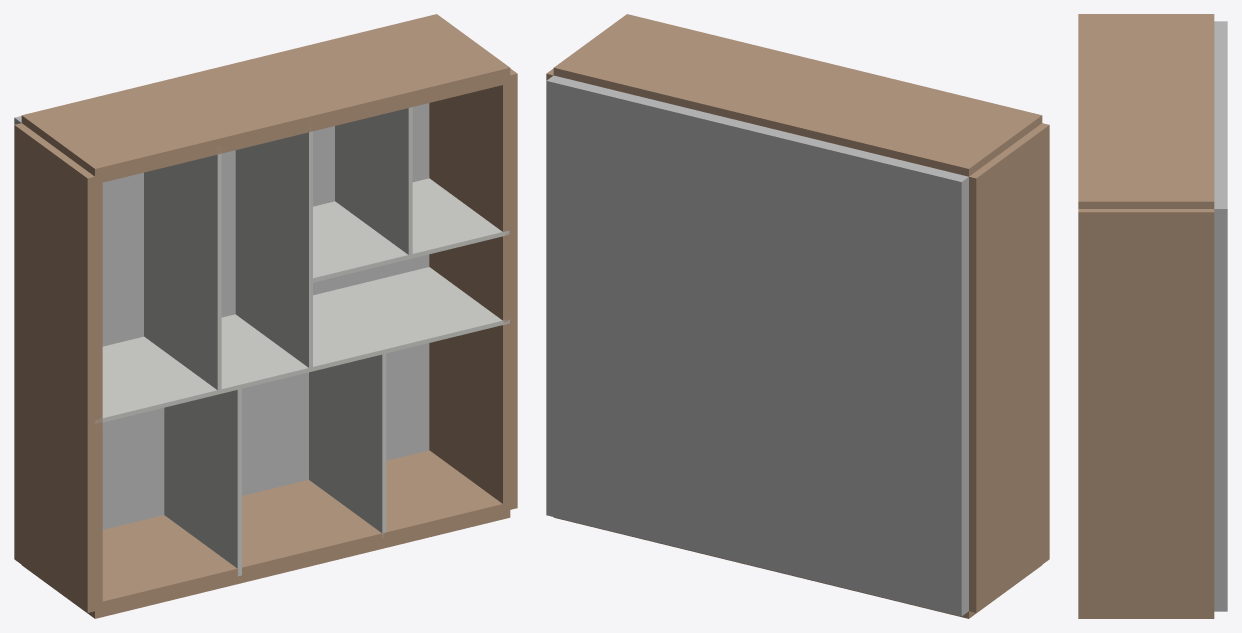
3 renders of one model, left to right at view 1: azimuth 30°, elevation 25°; view 2: azimuth 150°, elevation 25°; view 3: azimuth 270°, elevation 25°, orthographic. The views are drawn at different scales.
Visible parts, largest first — view 1: wall_3, wall_2, floor_slab, wall_1, wall_0, wall_4, wall_8, wall_13, wall_12, wall_6, wall_10, wall_9 (+3 smaller); view 2: floor_slab, wall_3, wall_2; view 3: wall_1, wall_2, floor_slab, wall_0.
Part boxes in pixels (<box>): wall_3: <box>14,123,102,612</box>; wall_2: <box>21,14,510,184</box>; floor_slab: <box>14,103,429,529</box>; wall_1: <box>429,68,517,511</box>; wall_0: <box>22,450,510,618</box>; wall_4: <box>144,147,221,392</box>; wall_8: <box>311,267,509,371</box>; wall_13: <box>164,387,241,576</box>; wall_12: <box>309,352,386,537</box>; wall_6: <box>311,178,509,282</box>; wall_10: <box>235,126,312,281</box>; wall_9: <box>335,107,412,254</box>; floor_slab: <box>546,75,968,616</box>; wall_3: <box>969,123,1049,612</box>; wall_2: <box>553,14,1042,176</box>; wall_1: <box>1078,209,1214,614</box>; wall_2: <box>1078,14,1214,208</box>; floor_slab: <box>1214,21,1227,611</box>; wall_0: <box>1078,615,1214,618</box>.
Bounding box in the file's own units: 10.15 × 10.15 × 3.3.
